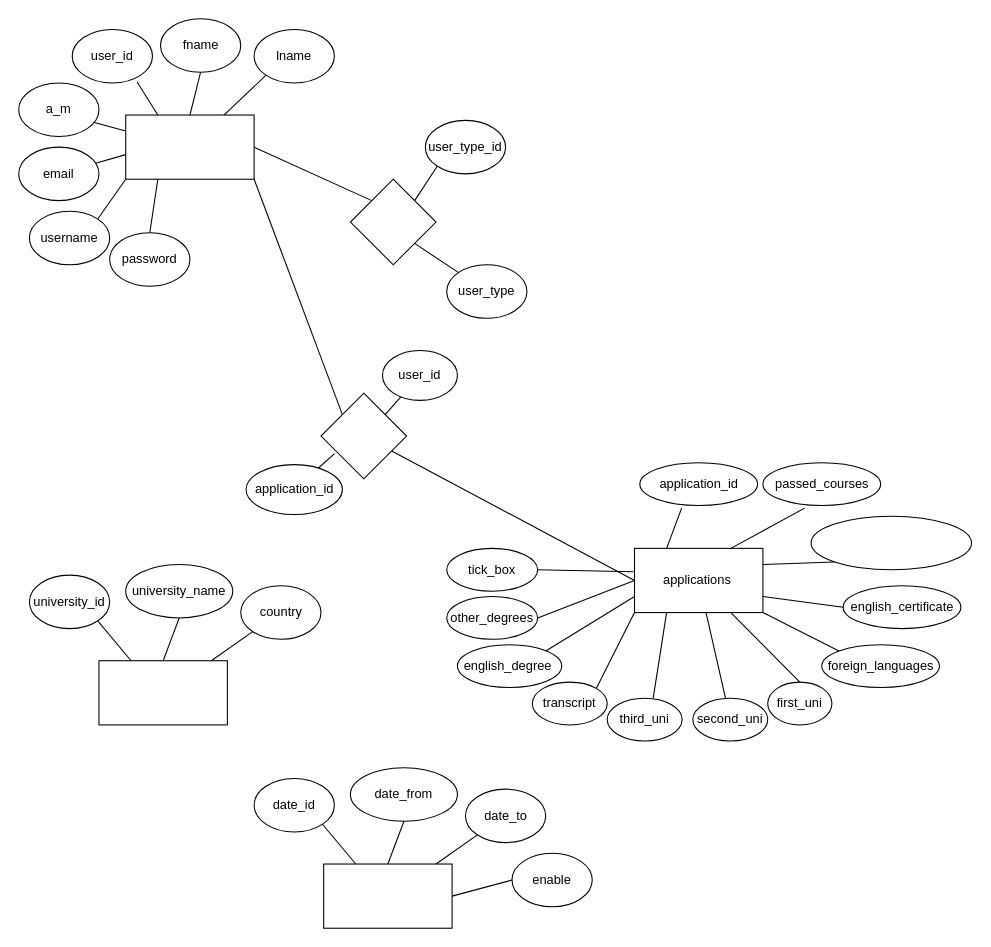
The diagram is 991 pixels wide and 947 high, and some of its shapes have lost their labels. Each missing label, with the box of its shape:
average_passed_courses: (810, 515, 972, 570)
dates: (323, 863, 452, 928)
fill: (320, 392, 407, 479)
Universities: (98, 660, 227, 725)
User_t: (349, 178, 436, 265)
Users: (125, 114, 254, 179)
